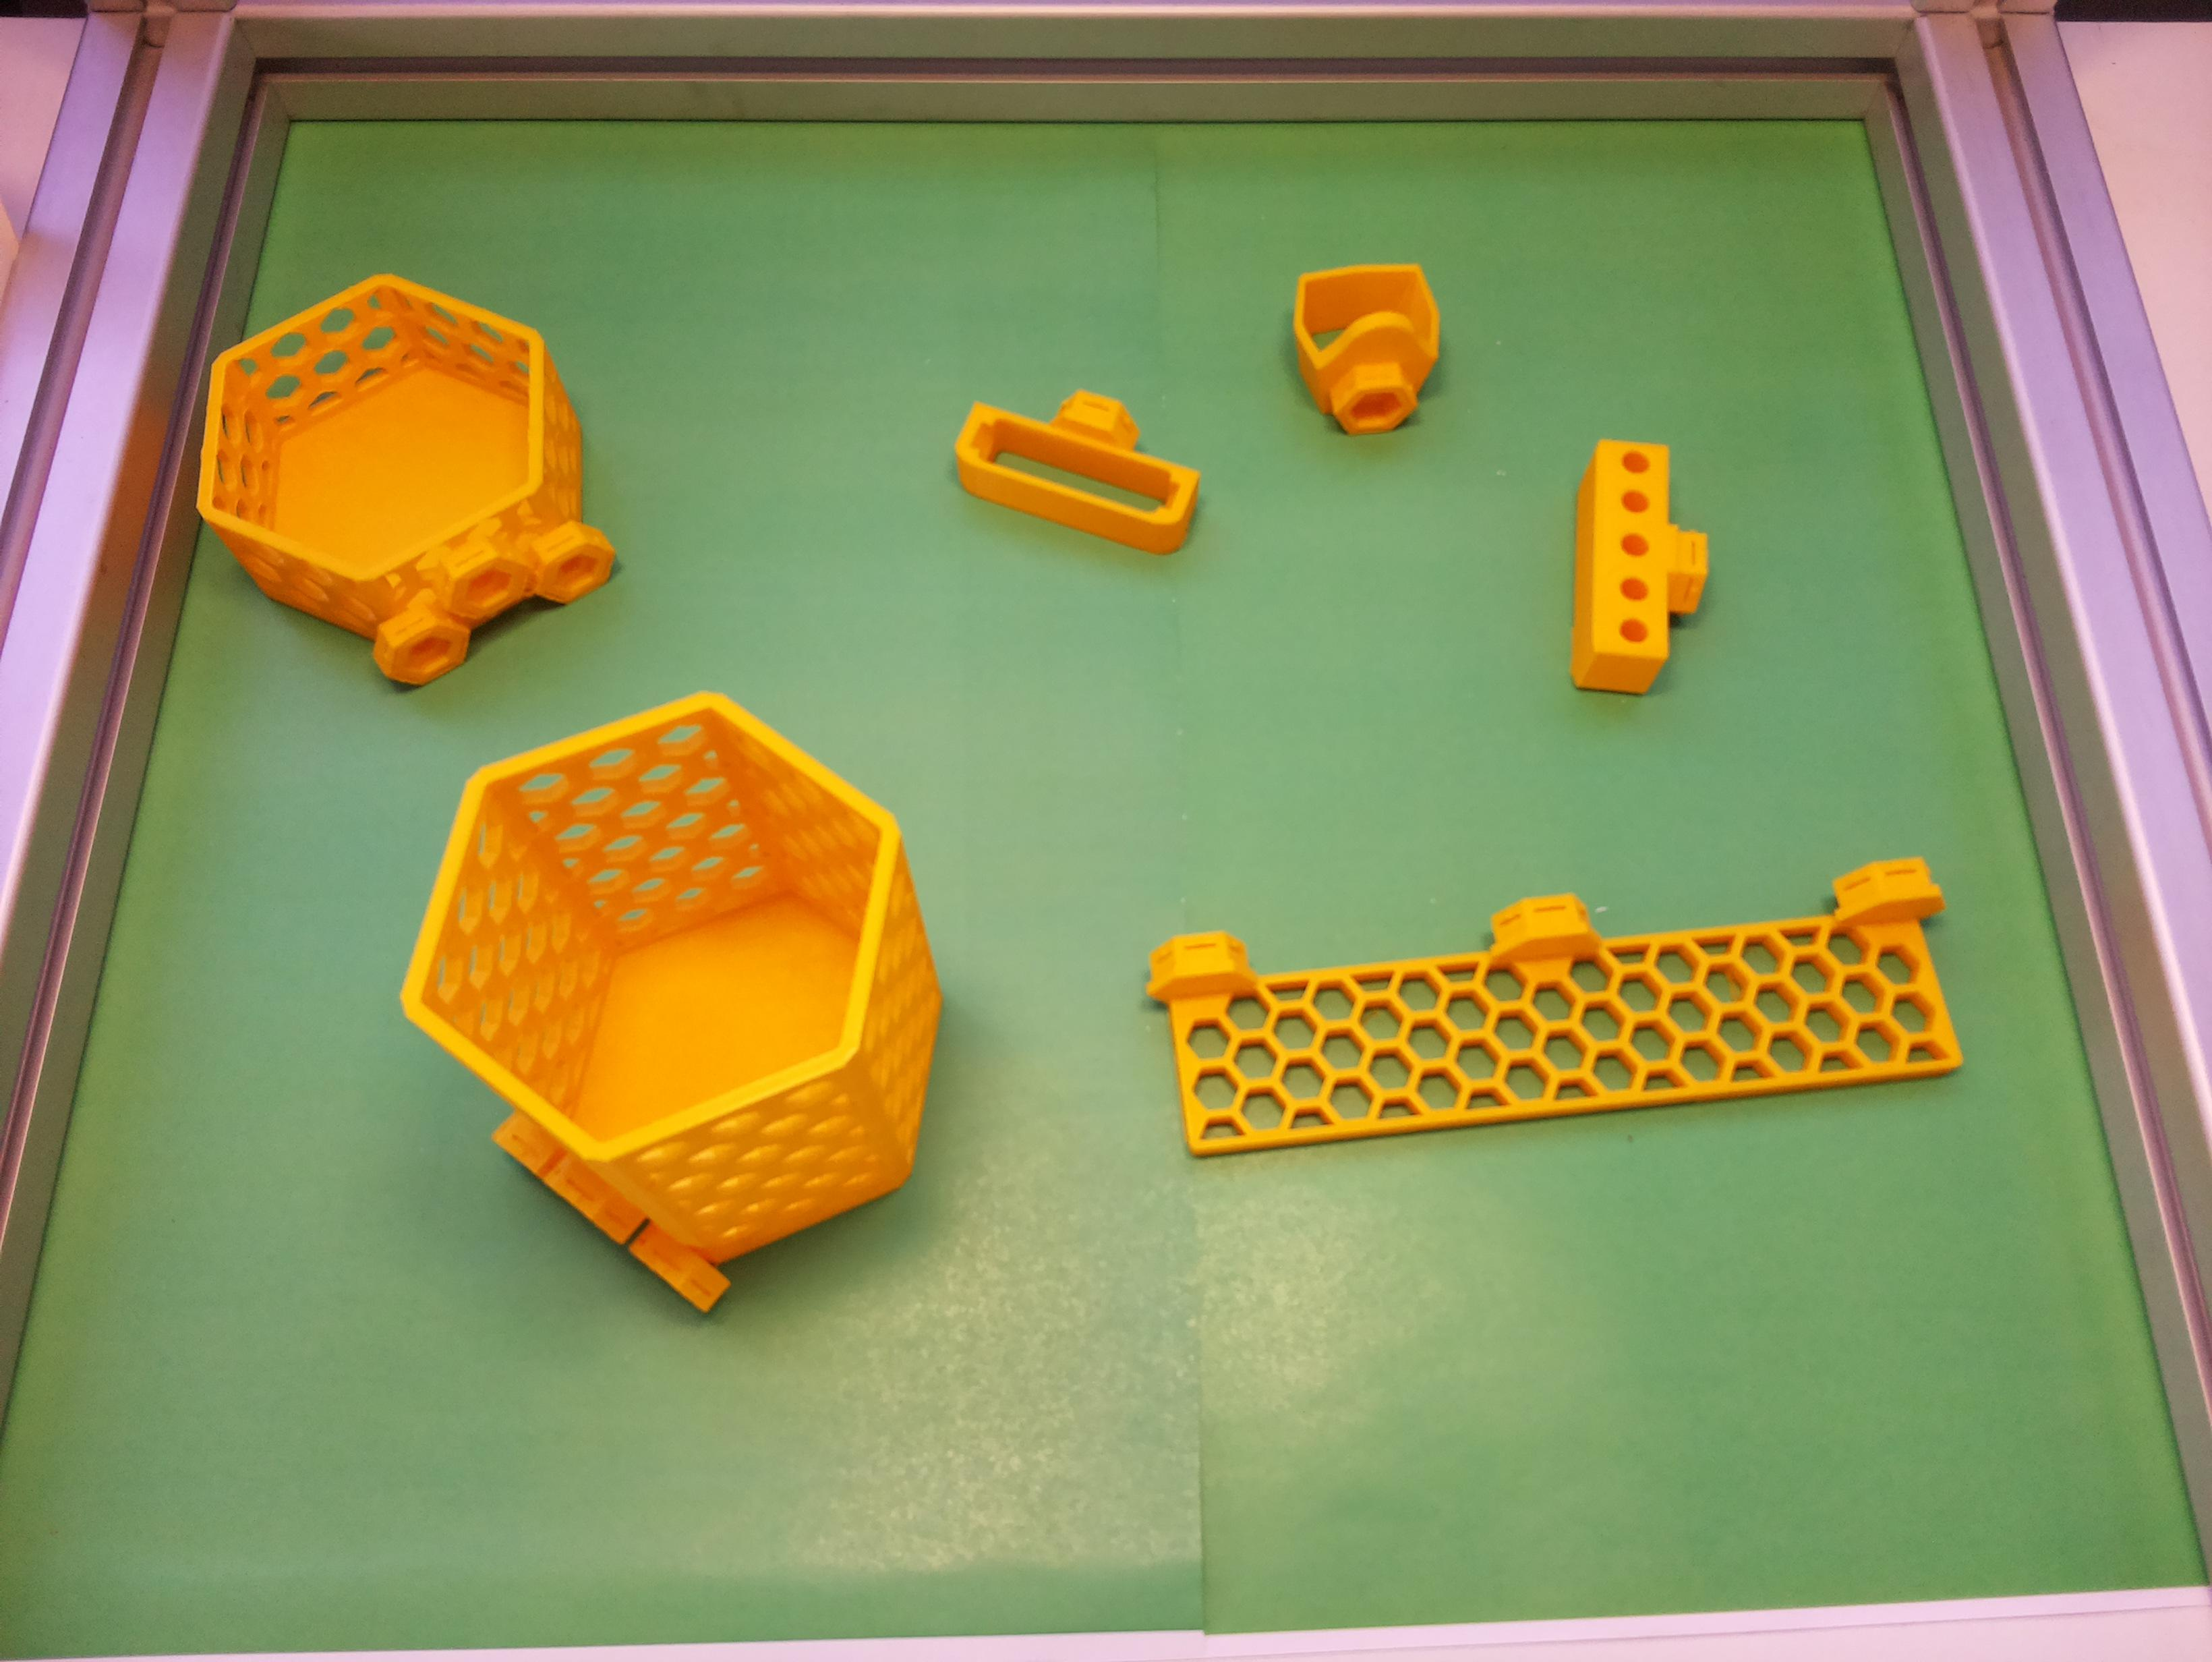bit_holder: (1559, 436, 1720, 700)
bottle_holder: (138, 215, 660, 738)
cup_holder: (316, 595, 1063, 1360)
cutter_holder: (943, 358, 1219, 560)
scissor_holder: (1290, 260, 1446, 436)
tool_holder: (1142, 854, 1964, 1161)
